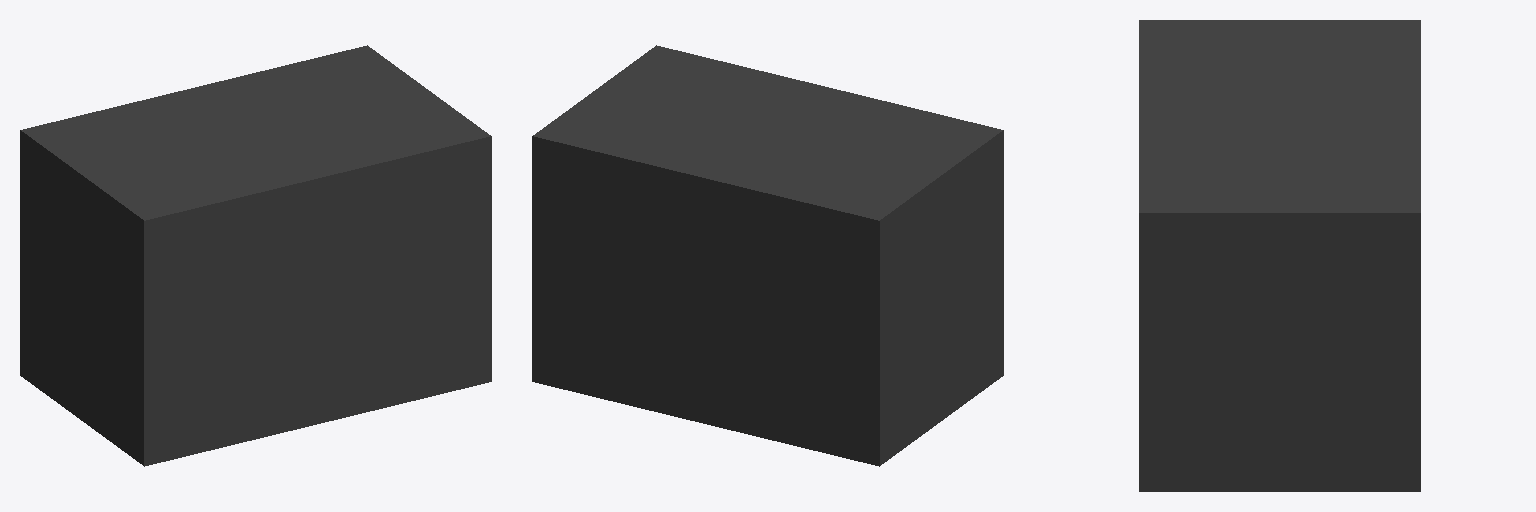
The robot description file, URDF, robot "box.urdf":
<?xml version="1.0" ?>
<robot name="box.urdf">
  <link name="baseLink">
    <contact>
      <lateral_friction value="1.0"/>
      <rolling_friction value="0.0001"/>
      <inertia_scaling value="3.0"/>
    </contact>
    <inertial>
      <origin rpy="0 0 0" xyz="0 0 0"/>
       <mass value="0.1"/>
       <inertia ixx="1" ixy="0" ixz="0" iyy="1" iyz="0" izz="1"/>
    </inertial>
    <visual>
      <origin rpy="0 0 0" xyz="0 0 0"/>
      <geometry>
        <!-- <box size="0.32799999999999996 0.203 0.222"/> -->
        <mesh filename="box/box.obj" scale="0.32799999999999996 0.203 0.222"/>
      </geometry>
      <material name="white">
        <color rgba="0.3 0.3 0.3 1"/>
      </material>
    </visual>
    <collision>
      <origin rpy="0 0 0" xyz="0 0 0"/>
      <geometry>
        <mesh filename="box/box.obj" scale="0.32799999999999996 0.203 0.222"/>
	 	    <!-- <box size="0.32799999999999996 0.203 0.222"/> -->
      </geometry>
    </collision>
  </link>
</robot>

--- What the picture shows (computed from the rendered views, not written in the file) ---
3 views of the same robot in one strip: view 1: azimuth 30°, elevation 25°; view 2: azimuth 150°, elevation 25°; view 3: azimuth 270°, elevation 25° (orthographic).
Robot: box.urdf — 1 links, 0 joints (none); root link baseLink; default pose: every joint at zero.
Visible links, largest first — view 1: baseLink; view 2: baseLink; view 3: baseLink.
Link boxes in pixels (bbox=[...]): baseLink: bbox=[20, 45, 491, 466]; baseLink: bbox=[532, 45, 1003, 466]; baseLink: bbox=[1139, 20, 1420, 491].
Size in the robot's own frame: 0.328 by 0.203 by 0.222 metres.
1 mesh visuals loaded from 1 distinct referenced files (1 OBJ).
